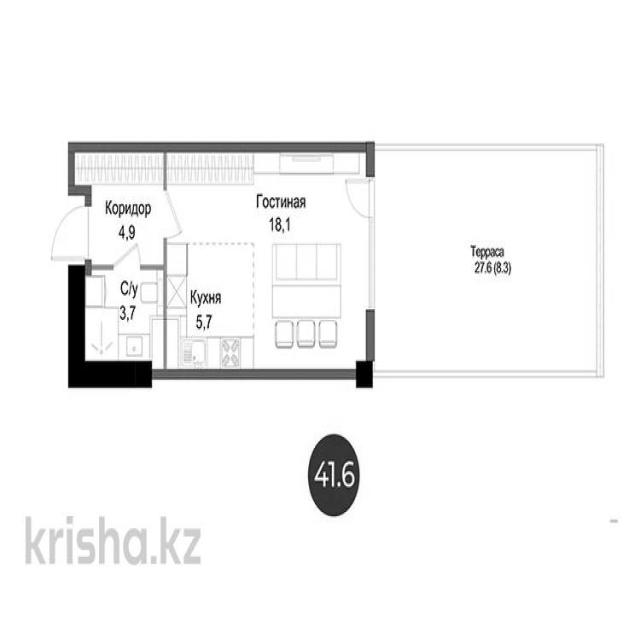balcony: (368, 146, 600, 369)
bathroom: (82, 279, 162, 378)
hallway: (70, 140, 164, 274)
studio: (164, 145, 368, 377)
